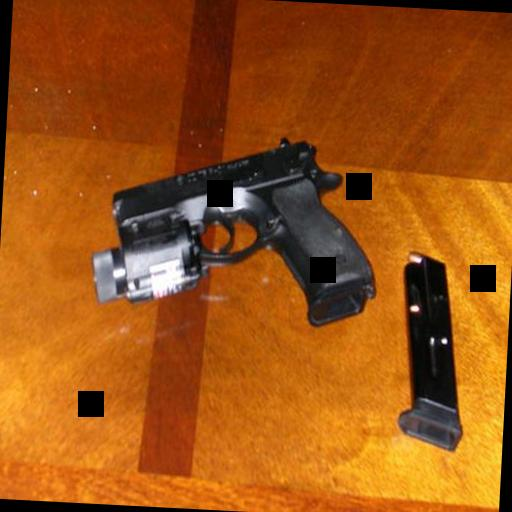Handgun: (82, 123, 384, 328)
